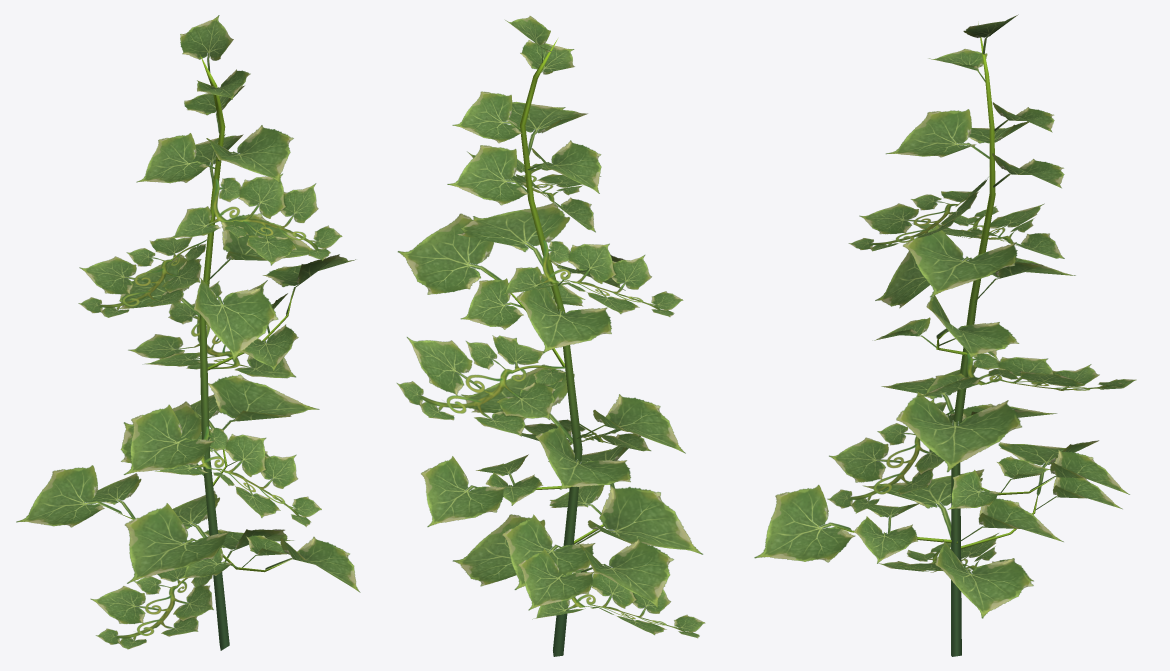
Rendered from plant_cucumber_S3.gltf.
3 renders of one model, left to right at view 1: azimuth 30°, elevation 25°; view 2: azimuth 150°, elevation 25°; view 3: azimuth 270°, elevation 25°, orthographic. The views are drawn at different scales.
Parts seen in each view (by area): view 1: plant_cucumber_S3; view 2: plant_cucumber_S3; view 3: plant_cucumber_S3.
Boxes of the visible parts, x1=… form: plant_cucumber_S3: x1=16, y1=15, x2=360, y2=650; plant_cucumber_S3: x1=396, y1=16, x2=705, y2=656; plant_cucumber_S3: x1=754, y1=14, x2=1136, y2=656.
Size of the model in its own units: 0.7278 by 1.43 by 0.8044.
Materials: 1 (1 with a texture image).
